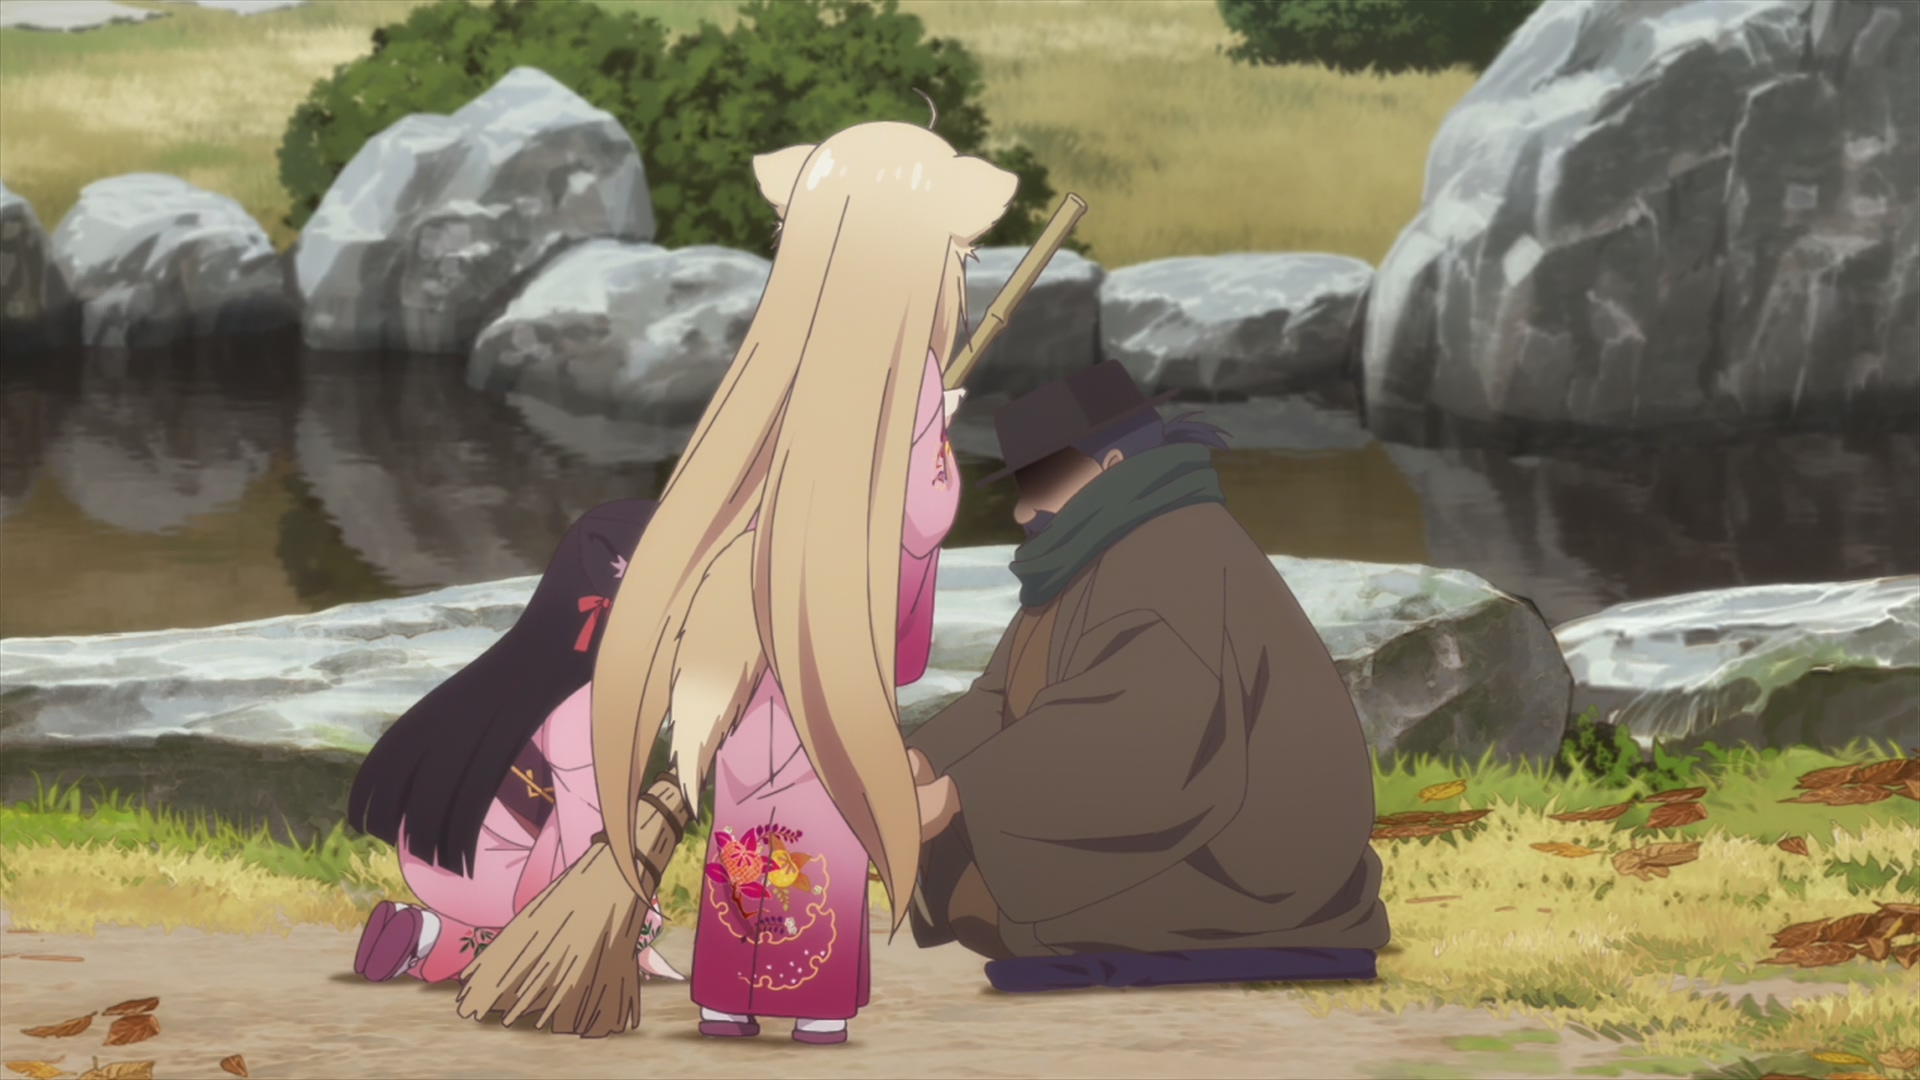其他: (899, 360, 1390, 996)
柚: (589, 84, 1019, 1048)
樱: (349, 498, 682, 985)
